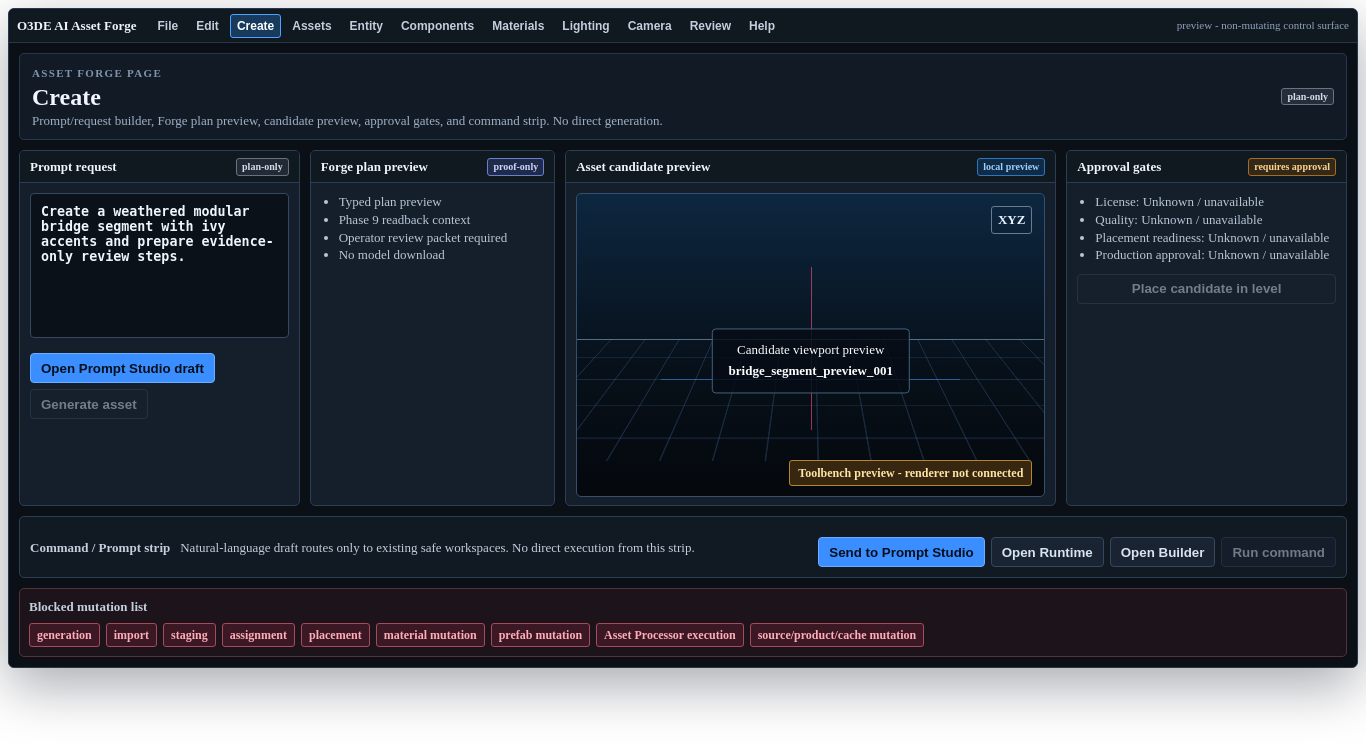
it: AssetForgeToolbenchLayout › gives Review a full-page operator packet surface
Click the button "Review".
click(710, 26)  # box [683, 14, 738, 38]
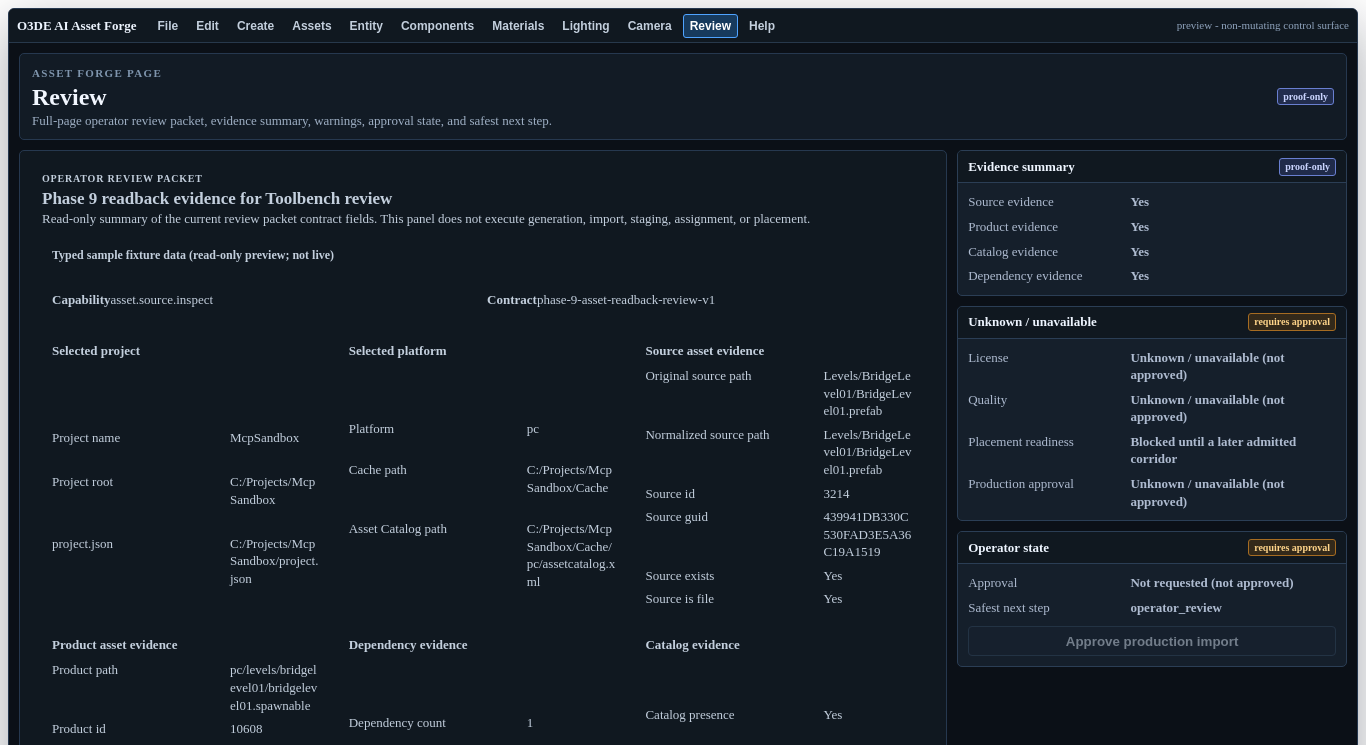
Expected: the text "Typed sample fixture data (read-only preview; not live)" is shown, [52, 248, 334, 262]
Expected: the text "Evidence summary" is shown, [968, 159, 1075, 174]
Expected: the text "Prompt request" is gone
